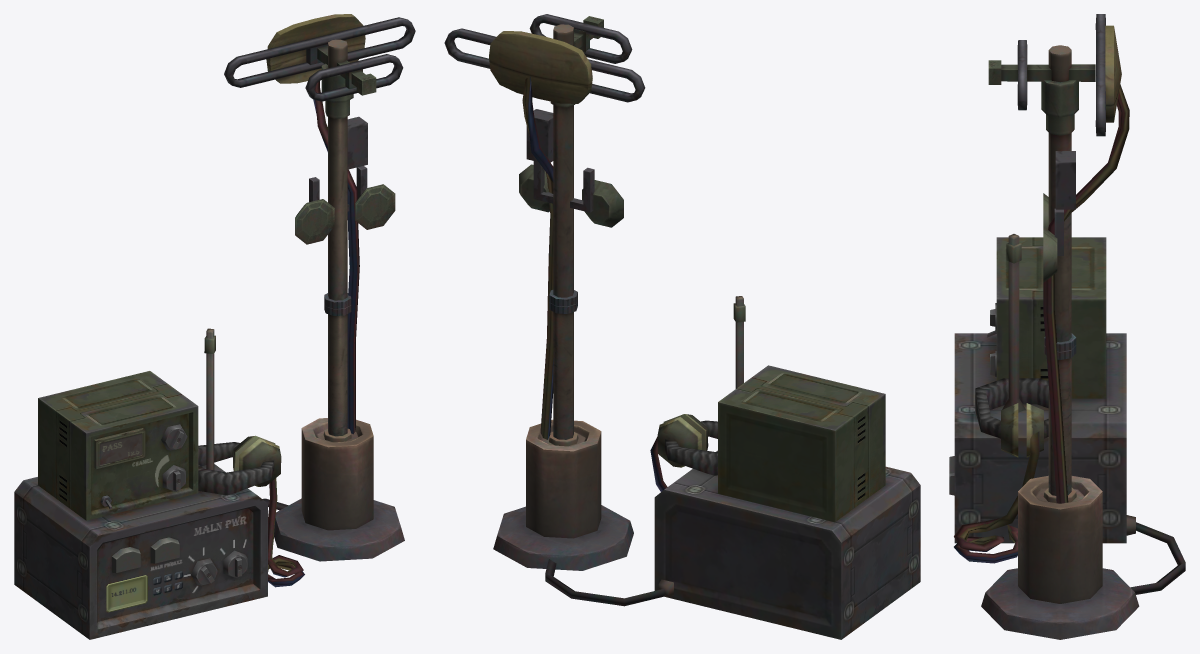
File: ClanRadio.FBX
The picture shows the model from 3 angles, left to right: view 1: azimuth 30°, elevation 25°; view 2: azimuth 150°, elevation 25°; view 3: azimuth 270°, elevation 25°; orthographic projection. The views are drawn at different scales.
Visible parts, largest first — view 1: Box002; view 2: Box002; view 3: Box002.
Part boxes in pixels (x1=…): Box002: x1=14, y1=14, x2=415, y2=639; Box002: x1=444, y1=14, x2=920, y2=639; Box002: x1=949, y1=14, x2=1185, y2=639.
Size of the model in its own units: 1.86 by 2.28 by 0.8636.
Materials: 1 (1 with a texture image).
